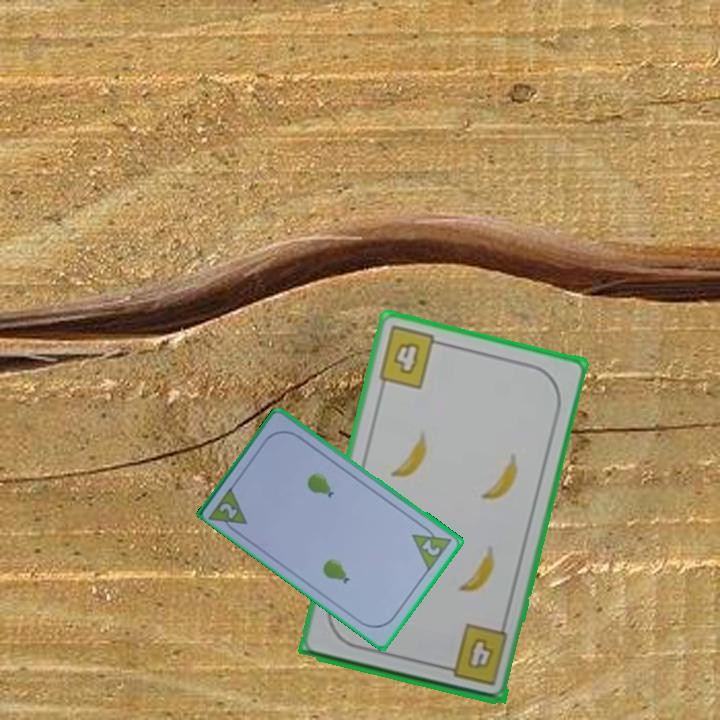2p: (409, 520, 455, 574), (216, 499, 241, 522)
4b: (374, 322, 448, 392), (437, 620, 510, 688)
